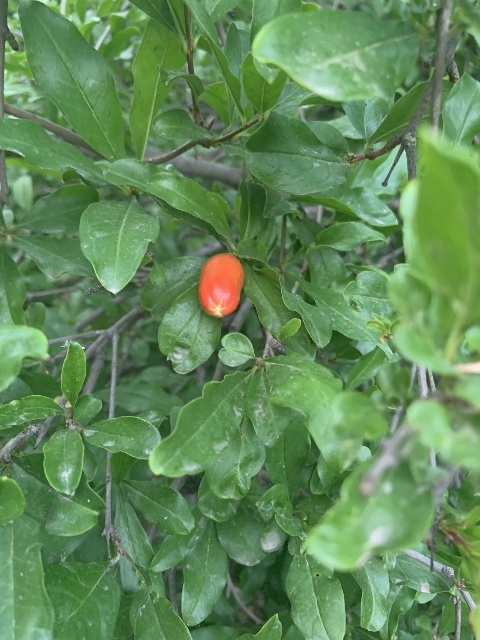bud: (198, 252, 244, 318)
